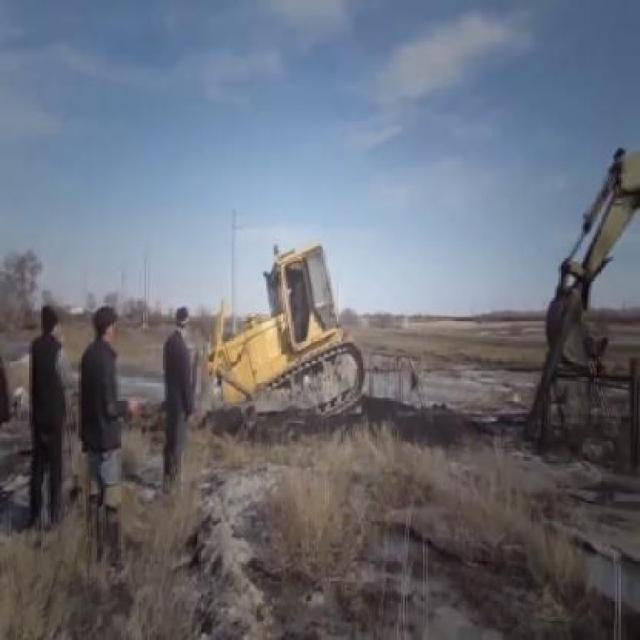Excavator: (546, 152, 640, 374)
